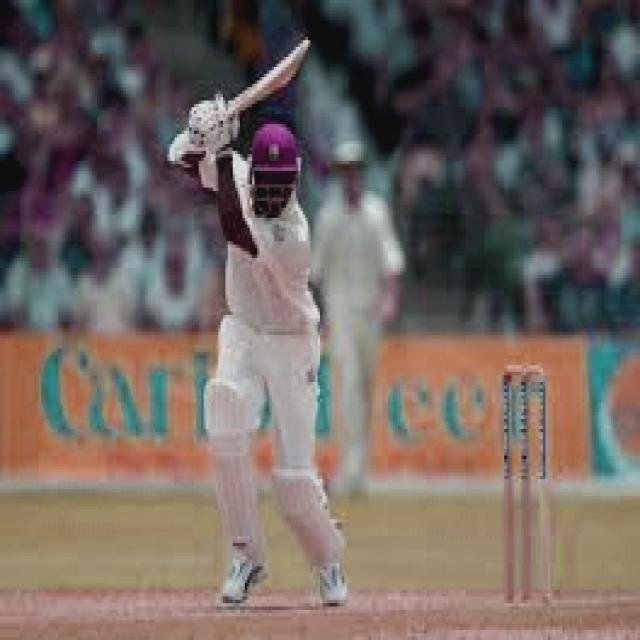toe: (266, 41, 312, 91)
